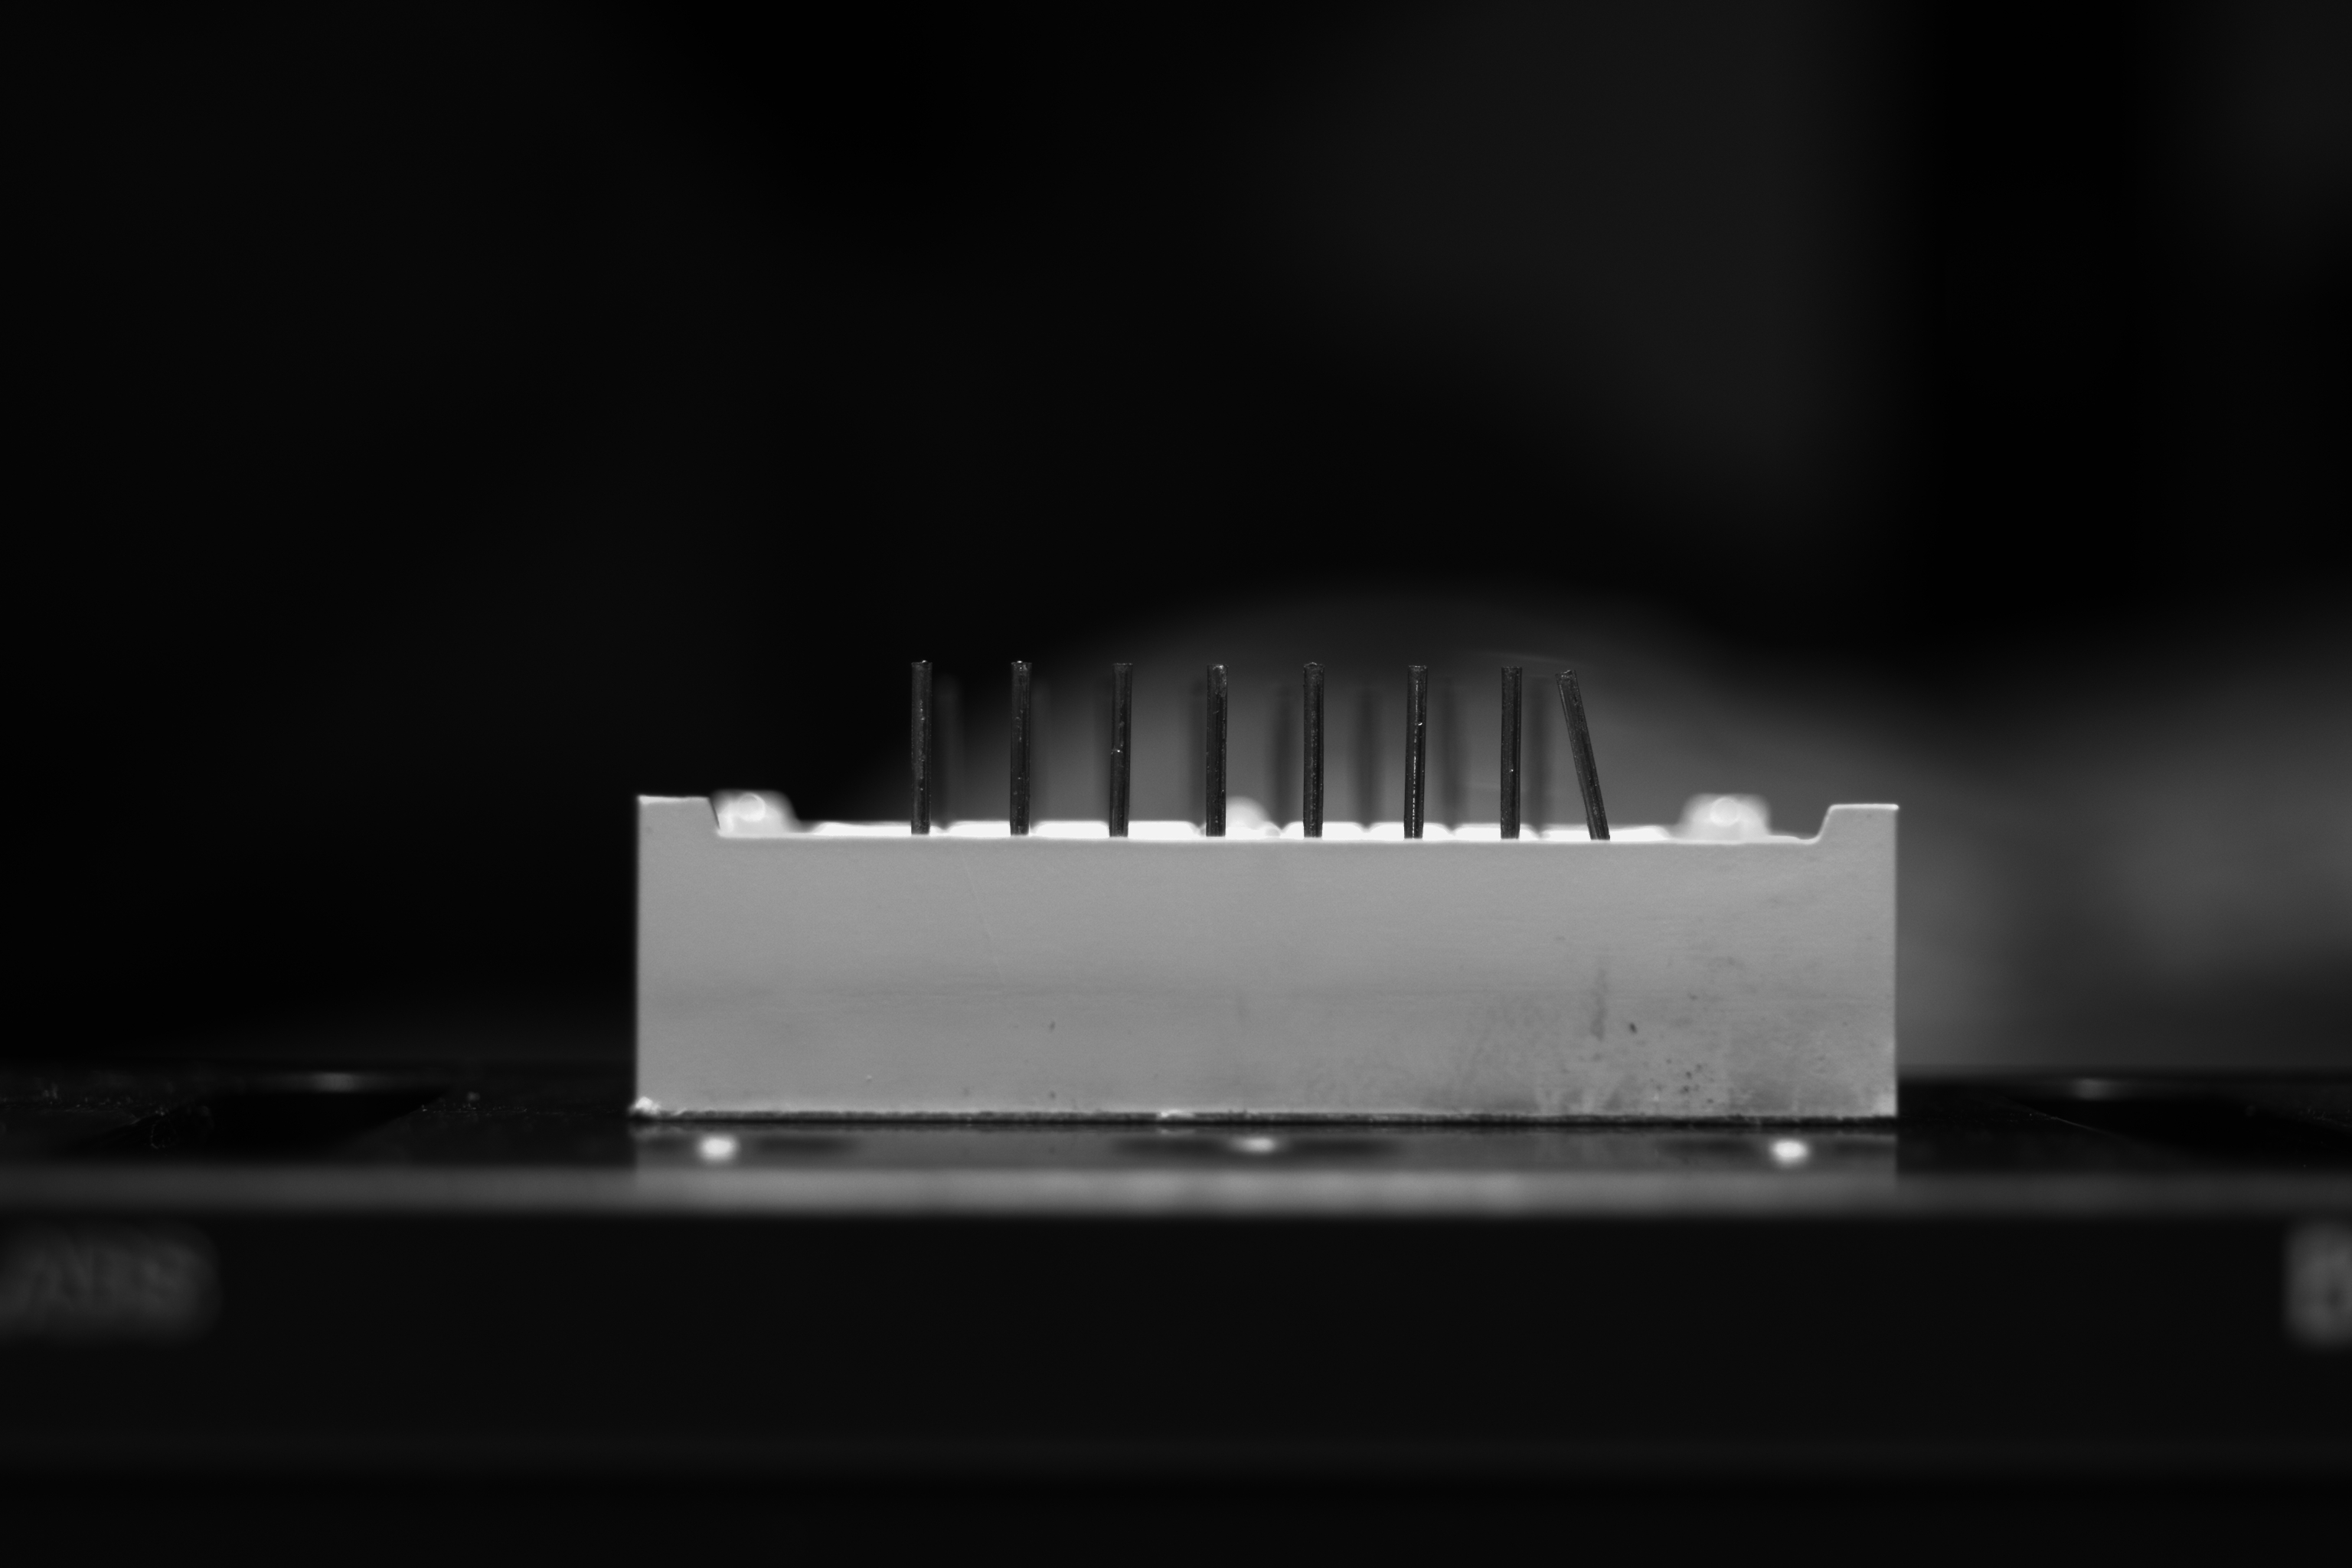pin_inclined_side: (1556, 668, 1622, 847)
